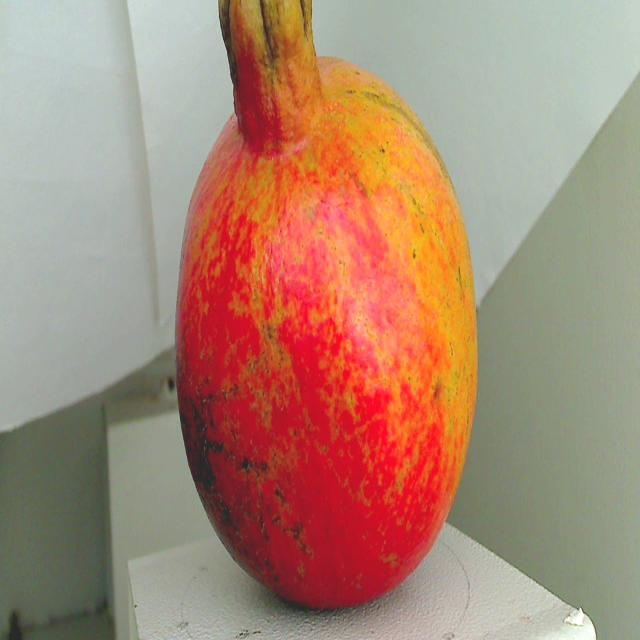pomegranate: (166, 0, 489, 635)
